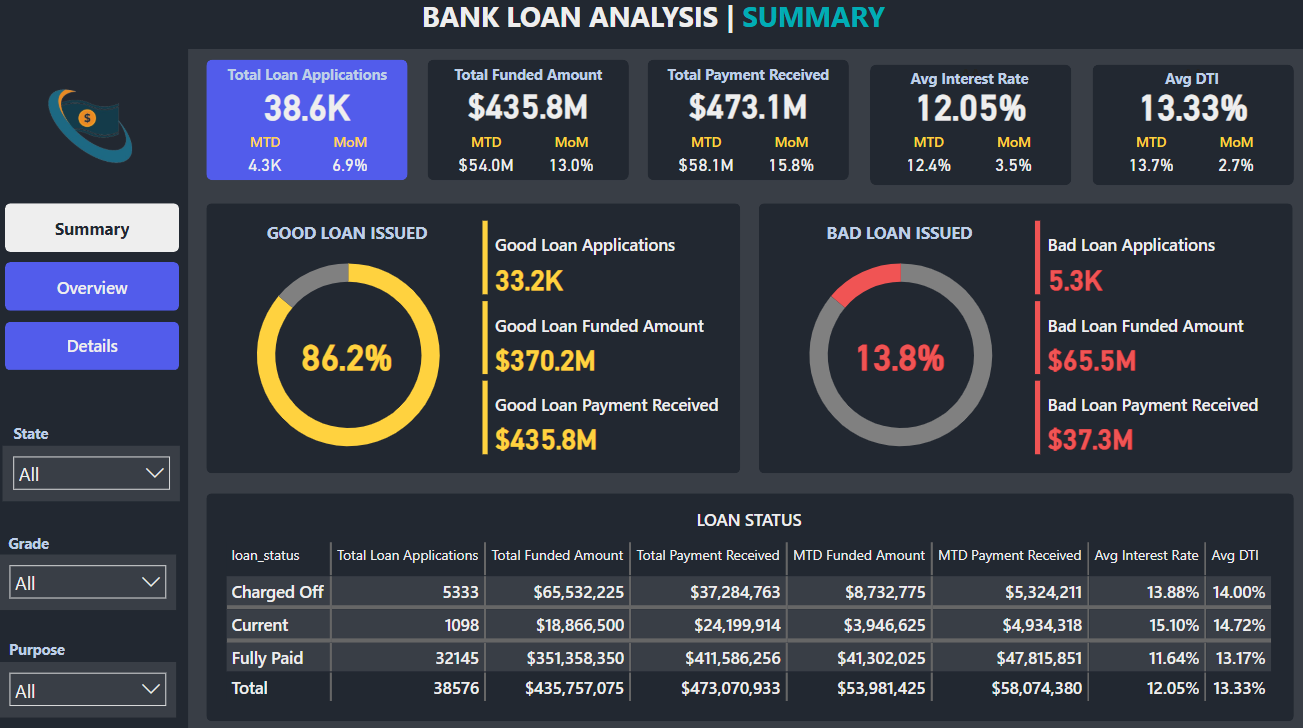

This screenshot's page, from the dashboard's own definition file:
{"tool":"powerbi","page":{"name":"Summary","canvas":[1280,720],"ordinal":0},"visuals":[{"type":"shape","box":[0,0,1280.2,55],"z":0},{"type":"shape","box":[208.8,64.6,194.4,116.6],"z":0,"group":"g1"},{"type":"shape","box":[422,64.6,194.4,116.6],"z":0,"group":"g2"},{"type":"shape","box":[635.2,64.6,194.4,116.6],"z":0,"group":"g5"},{"type":"shape","box":[849.6,69.2,194.4,116.6],"z":0,"group":"g3"},{"type":"shape","box":[1063.9,69.2,194.4,116.6],"z":0,"group":"g4"},{"type":"shape","box":[208.8,204.5,515.5,260.6],"z":0,"group":"g6"},{"type":"shape","box":[741.9,204.5,515.5,260.6],"z":0,"group":"g7"},{"type":"shape","box":[0,54.7,191.5,665.3],"z":1000},{"type":"card","fields":{"Values":["Measures Table.Total Loan Applications"]},"box":[208.8,81.9,194.4,53.3],"z":1000,"group":"g1"},{"type":"card","fields":{"Values":["Measures Table.Total Funded Amount"]},"box":[422,81.9,194.4,53.3],"z":1000,"group":"g2"},{"type":"card","fields":{"Values":["Measures Table.Total Payment Received"]},"box":[635.2,81.9,194.4,53.3],"z":1000,"group":"g5"},{"type":"card","fields":{"Values":["Measures Table.Avg Interest Rate"]},"box":[849.3,81.9,194.4,53.3],"z":1000,"group":"g3"},{"type":"card","fields":{"Values":["Measures Table.Avg DTI"]},"box":[1063.6,81.9,194.4,53.3],"z":1000,"group":"g4"},{"type":"textbox","box":[247.7,216,194.4,40.3],"z":1000,"group":"g6"},{"type":"textbox","box":[780.8,216,194.4,40.3],"z":1000,"group":"g7"},{"type":"textbox","box":[208.8,64.6,194.4,40.3],"z":2000,"group":"g1"},{"type":"textbox","box":[422,64.6,194.4,40.3],"z":2000,"group":"g2"},{"type":"textbox","box":[635.2,64.6,194.4,40.3],"z":2000,"group":"g5"},{"type":"textbox","box":[849.3,64.6,194.4,40.3],"z":2000,"group":"g3"},{"type":"textbox","box":[1063.6,64.6,194.4,40.3],"z":2000,"group":"g4"},{"type":"donutChart","fields":{"Category":["bank_loan_data.Good vs Bad Loan"],"Y":["Measures Table.Total Loan Applications"]},"box":[220.3,236.2,250.6,230.4],"z":2000,"group":"g6"},{"type":"donutChart","fields":{"Category":["bank_loan_data.Good vs Bad Loan"],"Y":["Measures Table.Total Loan Applications"]},"box":[753.4,236.2,250.6,230.4],"z":2000,"group":"g7"},{"type":"shape","box":[208.8,483.8,1049.8,220],"z":2000},{"type":"card","title":"MTD","fields":{"Values":["Measures Table.MTD Loan Applications"]},"box":[224.6,135.2,82.1,47.5],"z":3000,"group":"g1"},{"type":"card","title":"MTD","fields":{"Values":["Measures Table.MTD Funded Amount"]},"box":[437.8,135.2,82.1,47.5],"z":3000,"group":"g2"},{"type":"card","title":"MTD","fields":{"Values":["Measures Table.MTD Payment Received"]},"box":[651,135.2,82.1,47.5],"z":3000,"group":"g5"},{"type":"card","title":"MTD","fields":{"Values":["Measures Table.MTD Interest Rate"]},"box":[865.2,135.2,82.1,47.5],"z":3000,"group":"g3"},{"type":"card","title":"MTD","fields":{"Values":["Measures Table.MTD DTI"]},"box":[1079.5,135.2,82.1,47.5],"z":3000,"group":"g4"},{"type":"card","fields":{"Values":["Measures Table.Good Loan %"]},"box":[247.7,324,194.4,53.3],"z":3000,"group":"g6"},{"type":"card","fields":{"Values":["Measures Table.Bad Loan Applications %"]},"box":[780.8,324,194.4,53.3],"z":3000,"group":"g7"},{"type":"textbox","box":[11.5,411.8,54.7,36],"z":3000},{"type":"textbox","box":[0,0,1280.2,54.7],"z":4000},{"type":"card","title":"MoM","fields":{"Values":["Measures Table.MoM Loan Application"]},"box":[306.7,135.2,82.1,47.5],"z":4000,"group":"g1"},{"type":"card","title":"MoM","fields":{"Values":["Measures Table.MoM Funded Amount"]},"box":[519.9,135.2,82.1,47.5],"z":4000,"group":"g2"},{"type":"card","title":"MoM","fields":{"Values":["Measures Table.MoM Payment Received"]},"box":[733.1,135.2,82.1,47.5],"z":4000,"group":"g5"},{"type":"card","title":"MoM","fields":{"Values":["Measures Table.MoM Interest Rate"]},"box":[947.2,135.2,82.1,47.5],"z":4000,"group":"g3"},{"type":"card","title":"MoM","fields":{"Values":["Measures Table.MoM DTI"]},"box":[1161.5,135.2,82.1,47.5],"z":4000,"group":"g4"},{"type":"cardVisual","fields":{"Data":["Measures Table.Good Loan Applications","Measures Table.Good Loan Funded Amount","Measures Table.Good Loan Payment Received"]},"box":[470.9,216,253.4,236.2],"z":4000,"group":"g6"},{"type":"cardVisual","fields":{"Data":["Measures Table.Bad Loan Applications","Measures Table.Bad Loan Funded Amount","Measures Table.Bad Loan Payment Received"]},"box":[1004,216,253.4,236.2],"z":4000,"group":"g7"},{"type":"group","id":"g1","title":"Total Loan Application","box":[208.8,64.6,194.4,118.1],"z":5000},{"type":"textbox","box":[848.4,68.1,194.4,40.3],"z":5000,"group":"g3"},{"type":"textbox","box":[1062.7,68.1,194.4,40.3],"z":5000,"group":"g4"},{"type":"group","id":"g2","title":"Total Funded Amount","box":[422,64.6,194.4,118.1],"z":6000},{"type":"group","id":"g3","title":"Avg Interest Rate","box":[848.4,64.6,195.6,121.2],"z":7000},{"type":"group","id":"g4","title":"Avg DTI","box":[1062.7,64.6,195.8,121],"z":8000},{"type":"group","id":"g5","title":"Total Payment Received","box":[635.2,64.6,194.4,118.1],"z":9000},{"type":"group","id":"g6","title":"Good Loan Card","box":[208.8,204.5,515.5,262.1],"z":10000},{"type":"group","id":"g7","title":"Bad Loan Card","box":[741.9,204.5,516.6,261],"z":11000},{"type":"tableEx","title":"LOAN STATUS","fields":{"Values":["bank_loan_data.loan_status","Measures Table.Total Loan Applications","Measures Table.Total Funded Amount","Measures Table.Total Payment Received","Measures Table.MTD Funded Amount","Measures Table.MTD Payment Received","Measures Table.Avg Interest Rate","Measures Table.Avg DTI"]},"box":[221.8,498.2,1021,205.9],"z":12000},{"type":"slicer","fields":{"Values":["bank_loan_data.address_state"]},"box":[11.5,437.8,171.4,53.3],"z":13000},{"type":"textbox","box":[8.6,517,57.6,36],"z":14000},{"type":"slicer","fields":{"Values":["bank_loan_data.grade"]},"box":[8.6,542.8,171.4,53.3],"z":15000},{"type":"textbox","box":[8.6,620.6,73.4,36],"z":16000},{"type":"slicer","fields":{"Values":["bank_loan_data.purpose"]},"box":[8.5,646.4,171.4,53.3],"z":17000},{"type":"image","box":[1.2,55.5,190.6,148.4],"z":18000},{"type":"pageNavigator","box":[14.4,204.5,168.5,161.3],"z":19000}]}

Visuals, with their boxes in screenshot pixels (x1, y1, x2, y2), scaled from the page's 1280x720 canvas onto the 1303x728 screenshot:
shape: l=0, t=0, r=1302, b=56
shape: l=213, t=65, r=410, b=183
shape: l=430, t=65, r=627, b=183
shape: l=647, t=65, r=845, b=183
shape: l=865, t=70, r=1063, b=188
shape: l=1083, t=70, r=1281, b=188
shape: l=213, t=207, r=737, b=470
shape: l=755, t=207, r=1280, b=470
shape: l=0, t=55, r=195, b=727
card - Measures Table.Total Loan Applications: l=213, t=83, r=410, b=137
card - Measures Table.Total Funded Amount: l=430, t=83, r=627, b=137
card - Measures Table.Total Payment Received: l=647, t=83, r=845, b=137
card - Measures Table.Avg Interest Rate: l=865, t=83, r=1062, b=137
card - Measures Table.Avg DTI: l=1083, t=83, r=1281, b=137
textbox: l=252, t=218, r=450, b=259
textbox: l=795, t=218, r=993, b=259
textbox: l=213, t=65, r=410, b=106
textbox: l=430, t=65, r=627, b=106
textbox: l=647, t=65, r=845, b=106
textbox: l=865, t=65, r=1062, b=106
textbox: l=1083, t=65, r=1281, b=106
donutChart - bank_loan_data.Good vs Bad Loan x Measures Table.Total Loan Applications: l=224, t=239, r=479, b=472
donutChart - bank_loan_data.Good vs Bad Loan x Measures Table.Total Loan Applications: l=767, t=239, r=1022, b=472
shape: l=213, t=489, r=1281, b=712
"MTD" card: l=229, t=137, r=312, b=185
"MTD" card: l=446, t=137, r=529, b=185
"MTD" card: l=663, t=137, r=746, b=185
"MTD" card: l=881, t=137, r=964, b=185
"MTD" card: l=1099, t=137, r=1182, b=185
card - Measures Table.Good Loan %: l=252, t=328, r=450, b=381
card - Measures Table.Bad Loan Applications %: l=795, t=328, r=993, b=381
textbox: l=12, t=416, r=67, b=453
textbox: l=0, t=0, r=1302, b=55
"MoM" card: l=312, t=137, r=396, b=185
"MoM" card: l=529, t=137, r=613, b=185
"MoM" card: l=746, t=137, r=830, b=185
"MoM" card: l=964, t=137, r=1048, b=185
"MoM" card: l=1182, t=137, r=1266, b=185
cardVisual - Measures Table.Good Loan Applications x Measures Table.Good Loan Funded Amount: l=479, t=218, r=737, b=457
cardVisual - Measures Table.Bad Loan Applications x Measures Table.Bad Loan Funded Amount: l=1022, t=218, r=1280, b=457
"Total Loan Application" group: l=213, t=65, r=410, b=185
textbox: l=864, t=69, r=1062, b=110
textbox: l=1082, t=69, r=1280, b=110
"Total Funded Amount" group: l=430, t=65, r=627, b=185
"Avg Interest Rate" group: l=864, t=65, r=1063, b=188
"Avg DTI" group: l=1082, t=65, r=1281, b=188
"Total Payment Received" group: l=647, t=65, r=845, b=185
"Good Loan Card" group: l=213, t=207, r=737, b=472
"Bad Loan Card" group: l=755, t=207, r=1281, b=471
"LOAN STATUS" tableEx: l=226, t=504, r=1265, b=712
slicer - bank_loan_data.address_state: l=12, t=443, r=186, b=497
textbox: l=9, t=523, r=67, b=559
slicer - bank_loan_data.grade: l=9, t=549, r=183, b=603
textbox: l=9, t=627, r=83, b=664
slicer - bank_loan_data.purpose: l=9, t=654, r=183, b=707
image: l=1, t=56, r=195, b=206
pageNavigator: l=15, t=207, r=186, b=370
